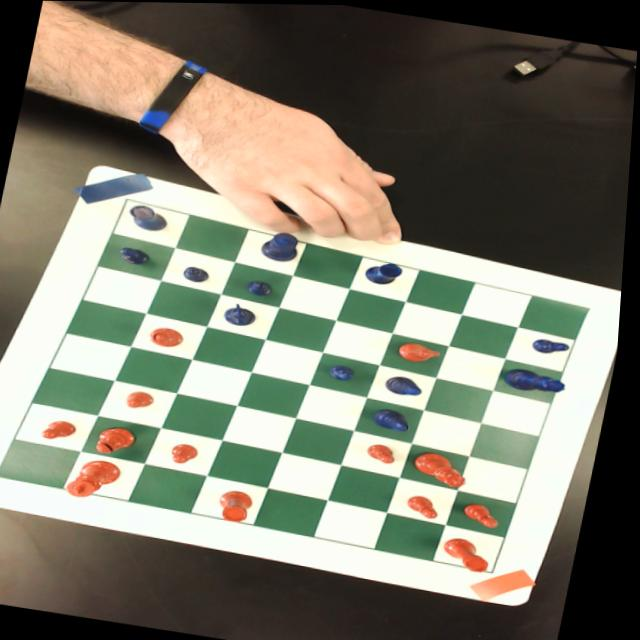B: (374, 406, 417, 431), (386, 373, 429, 397)
K: (260, 228, 304, 264)
N: (222, 301, 265, 328)
P: (534, 336, 574, 355), (121, 246, 155, 266), (183, 264, 214, 284), (246, 278, 277, 297), (329, 363, 361, 381)
Q: (506, 365, 573, 396)
R: (127, 202, 174, 233), (364, 257, 409, 287)
b: (97, 423, 143, 458), (150, 324, 190, 349)
k: (70, 456, 129, 502)
n: (399, 339, 446, 364)
p: (466, 500, 509, 528), (410, 493, 448, 519), (45, 418, 83, 443), (370, 441, 404, 464), (174, 441, 205, 466), (128, 388, 161, 411)
q: (414, 449, 477, 488)
r: (446, 535, 500, 572), (220, 488, 261, 523)
